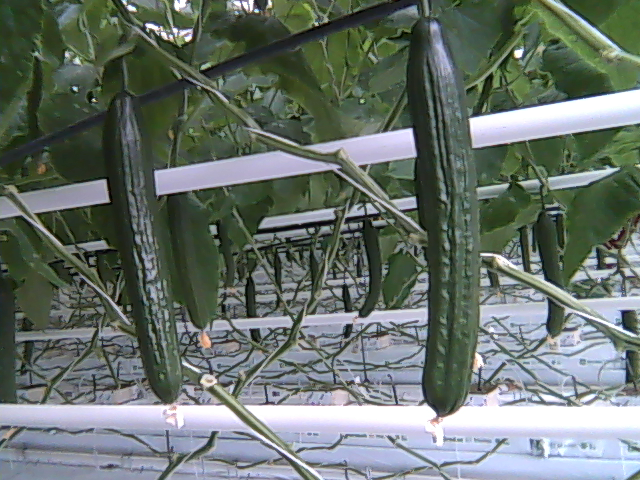concombre: (400, 12, 485, 452), (100, 83, 190, 429)
